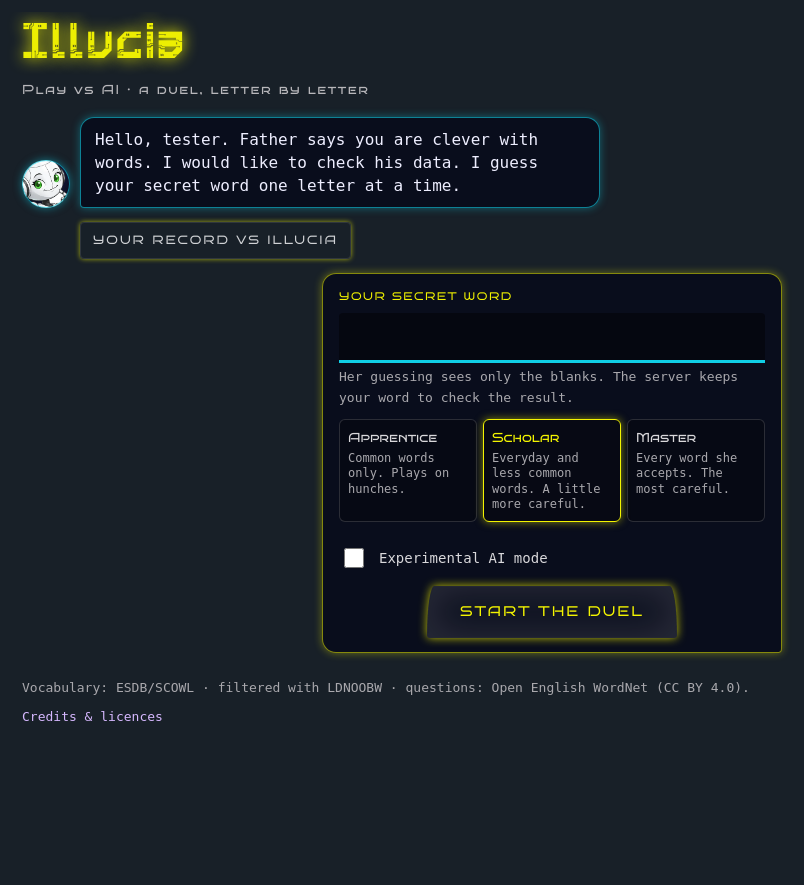
Scenario: says when there is no record yet
This screenshot has width=804, height=885.
Step 1. Click the button "Your record vs Illucia" → (216, 240), box [80,222,351,259]
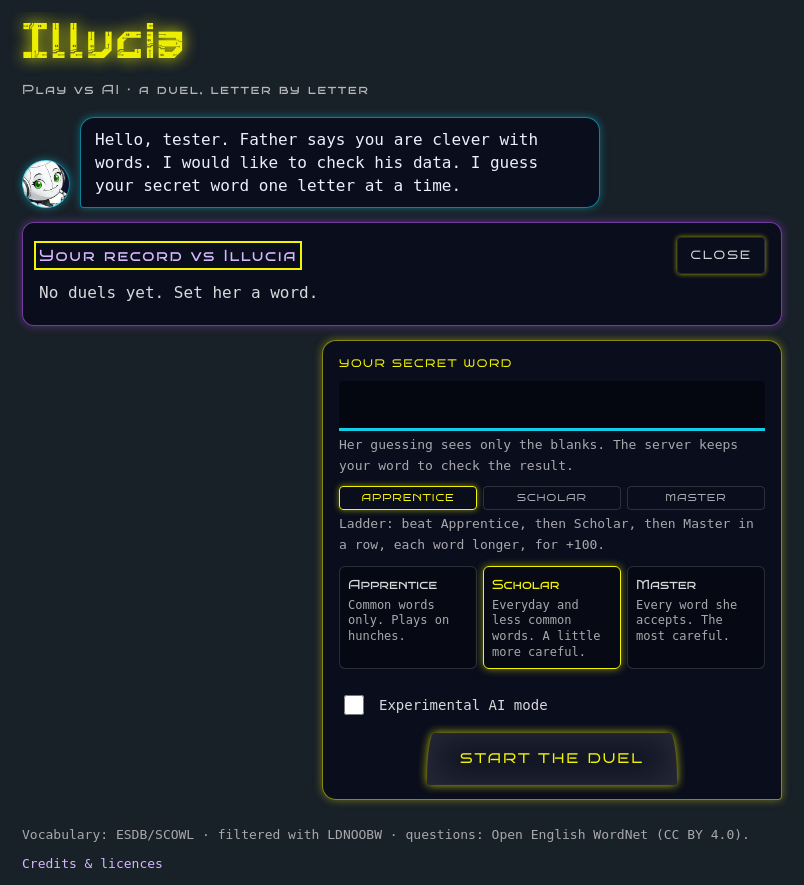
Check: the text "No duels yet. Set her a word." is shown, box [39,282,318,302]
